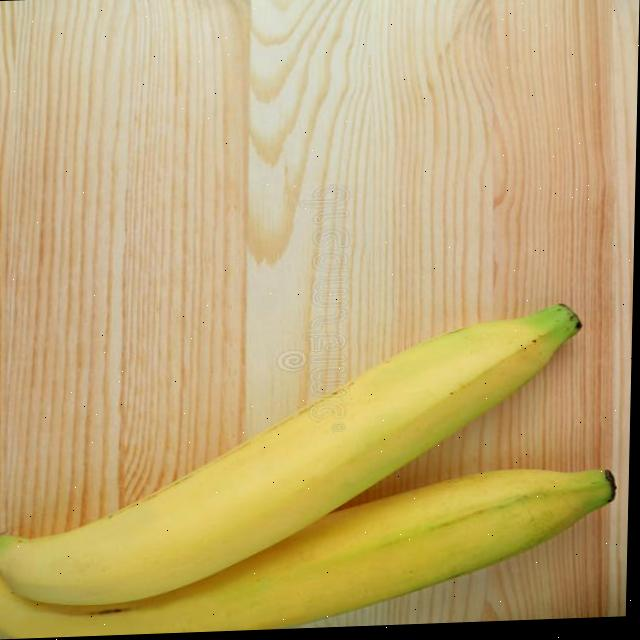banana: (0, 300, 590, 616), (0, 457, 626, 640)
